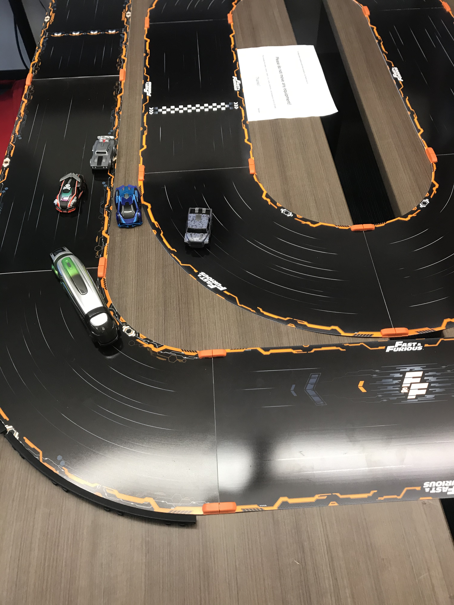Charger: (90, 135, 116, 168)
Freewheel: (47, 247, 112, 335)
MXT: (183, 207, 213, 244)
Shock: (114, 186, 143, 226)
Skull: (53, 173, 84, 214)
